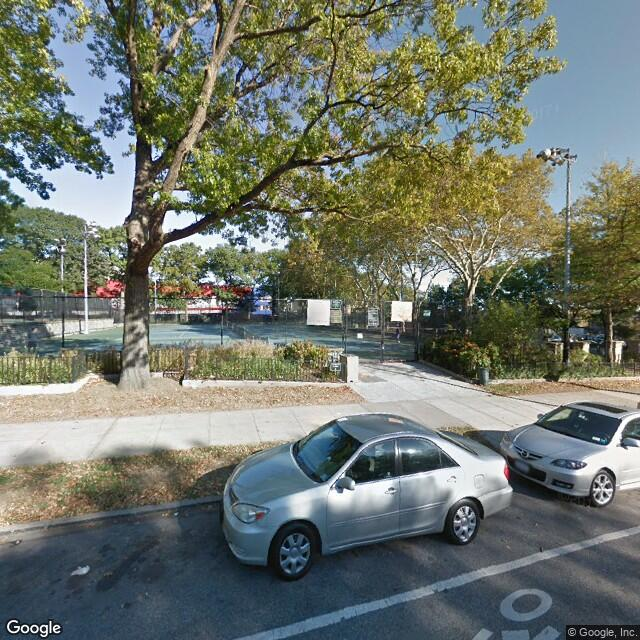litter: (63, 566, 106, 581)
